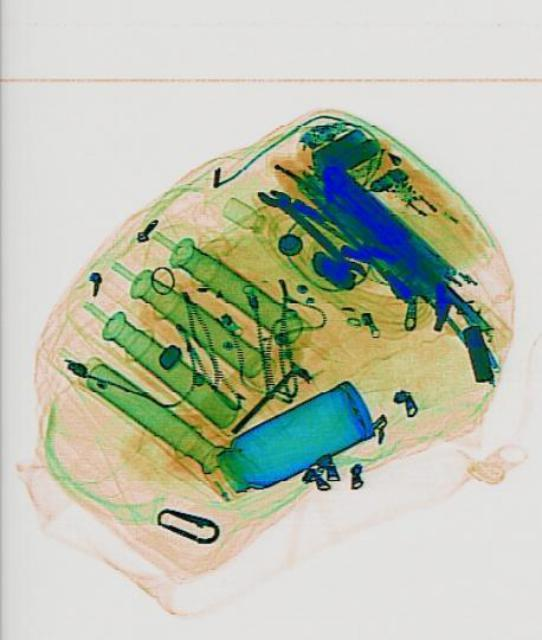Wrench: (253, 177, 369, 287)
